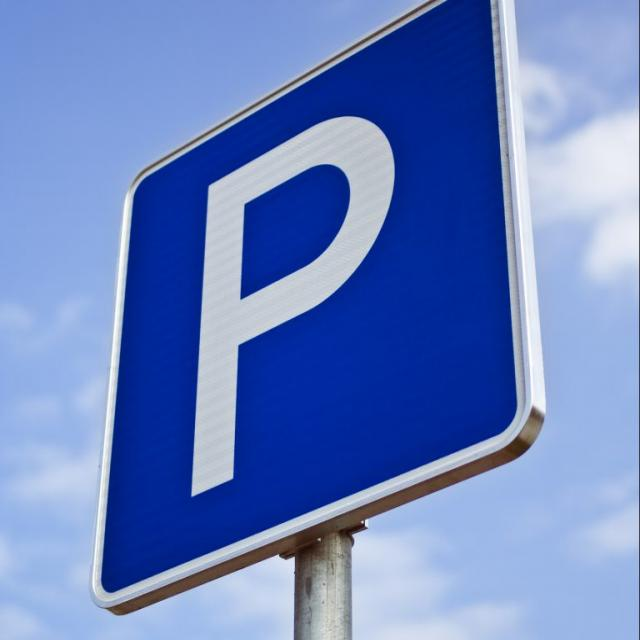parking: (106, 0, 546, 611)
